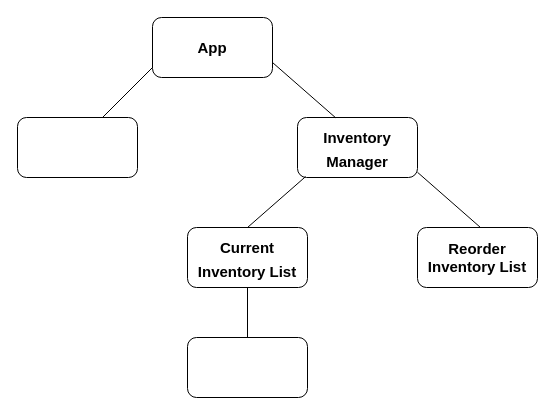
This 555x415 diagram has some shape labels left out. Each missing label, with the centre of its shape:
"Header" belongs at pixel 77 147.
"Inventory Item Card" belongs at pixel 247 367.
